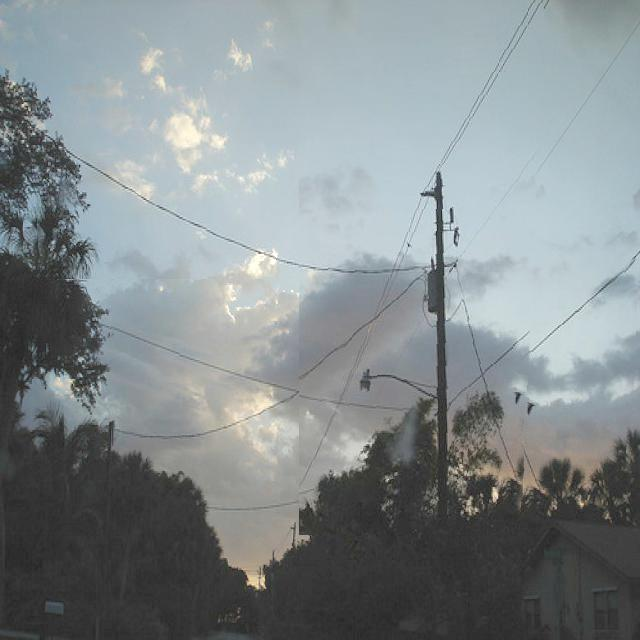pole: (430, 175, 462, 566)
transformer: (440, 265, 452, 328)
wire: (299, 0, 541, 503), (31, 120, 448, 279), (112, 283, 440, 446), (466, 258, 639, 414)
